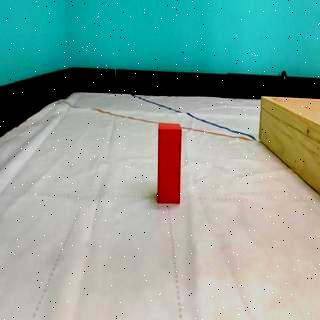redbox: (158, 124, 182, 206)
